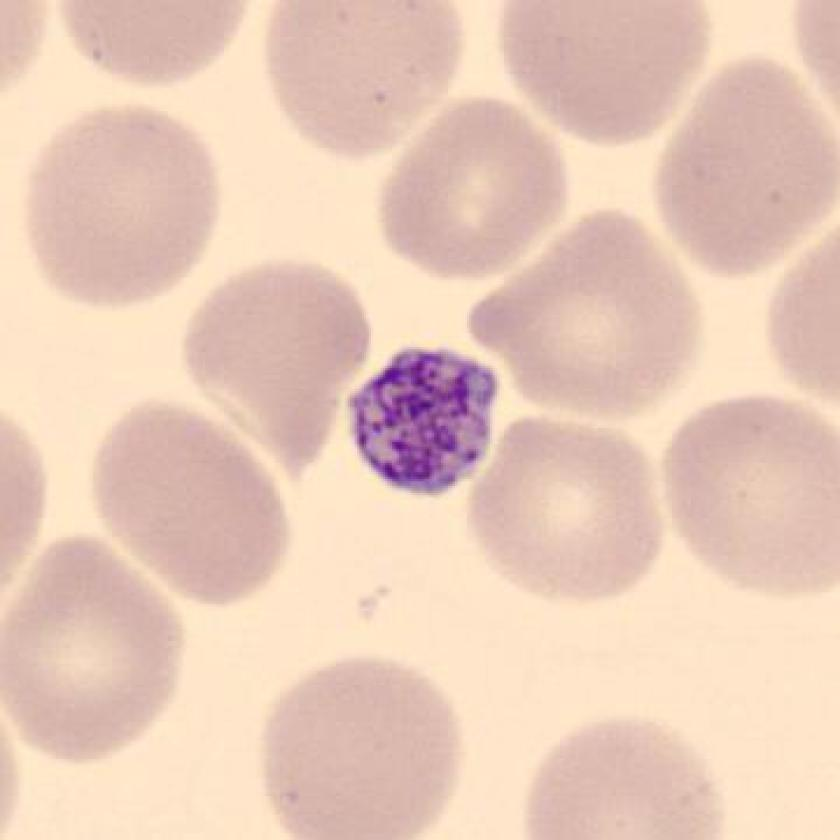platelets: (347, 341, 501, 499)
